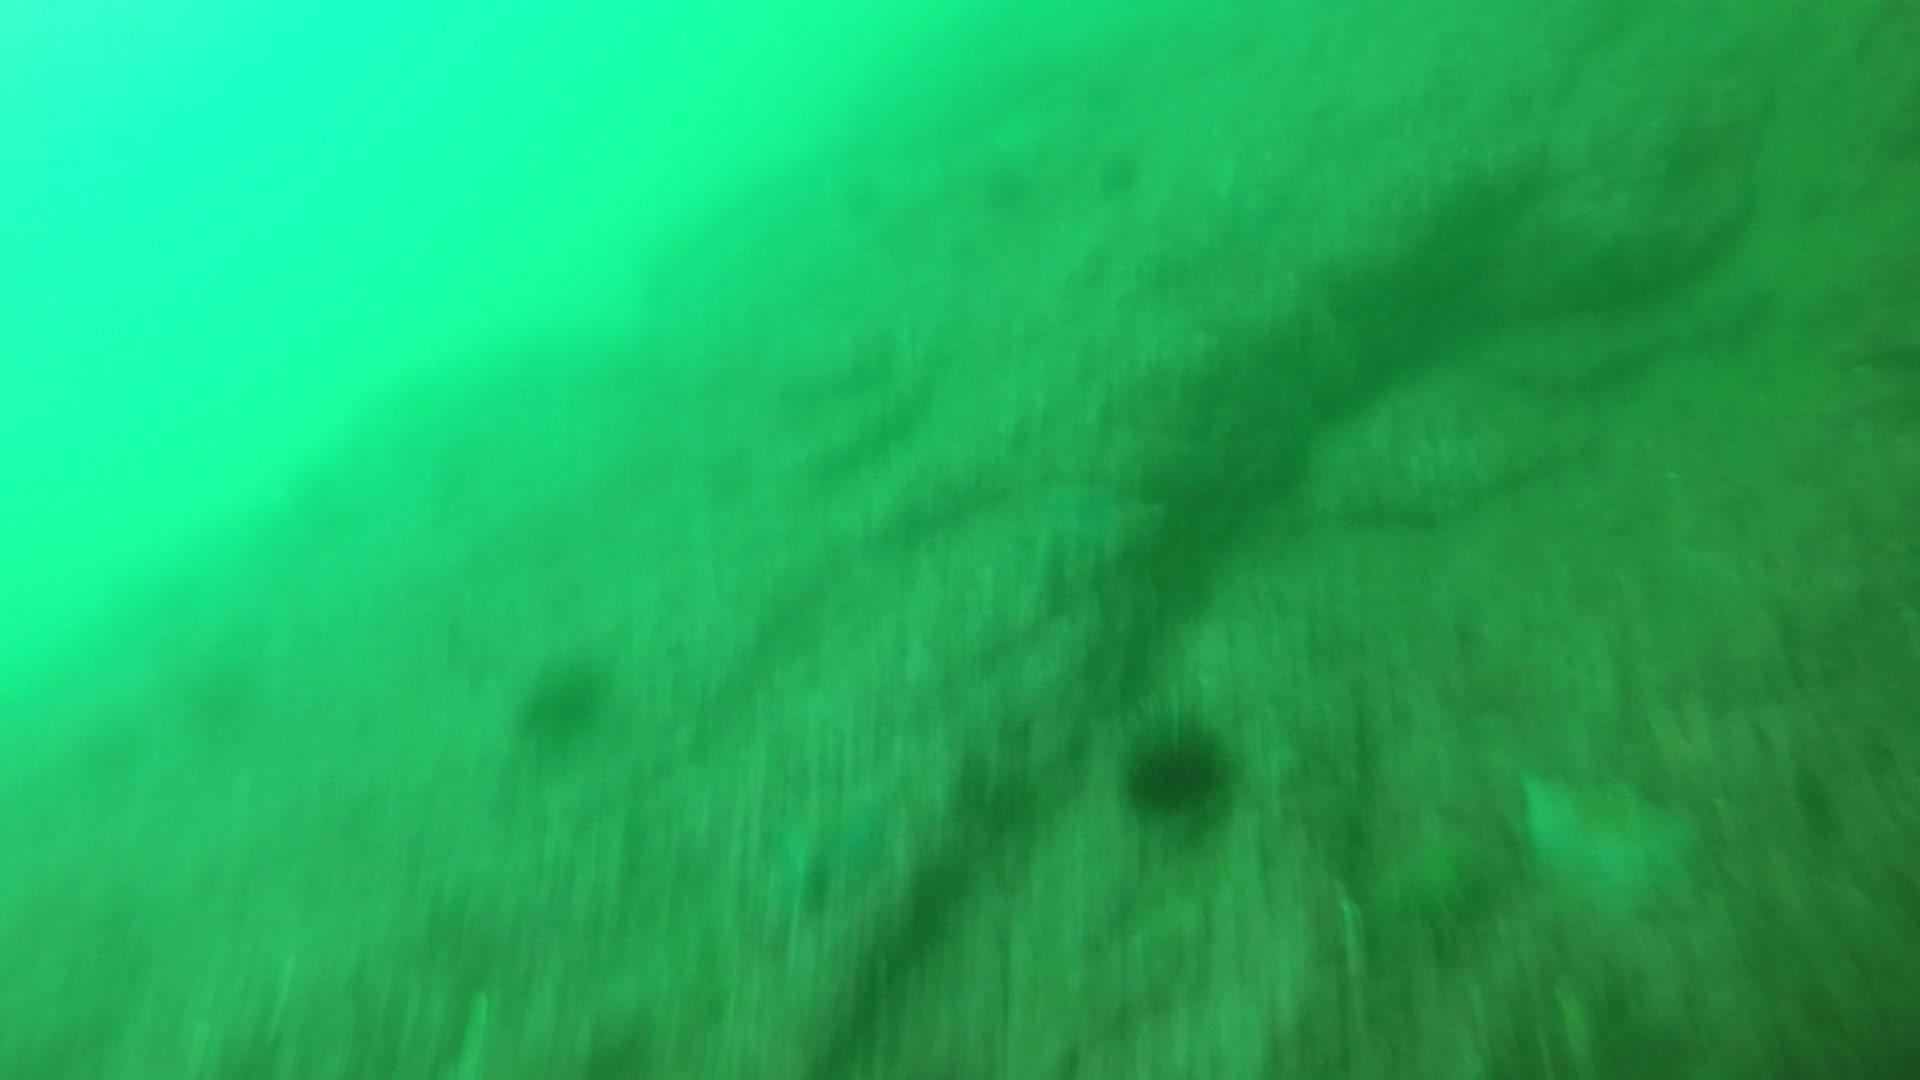echinus: (1117, 712, 1237, 822), (512, 647, 616, 746), (975, 156, 1039, 218), (1092, 144, 1147, 200)
starfish: (1509, 760, 1708, 923), (756, 766, 901, 902)
